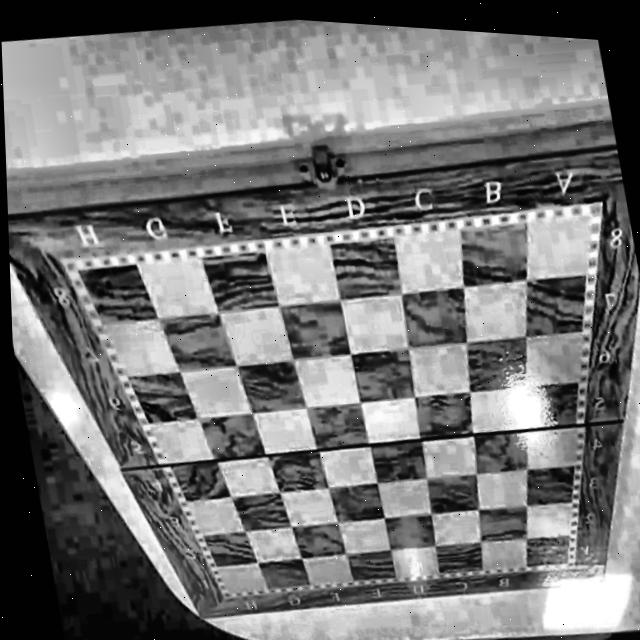chessboard: (60, 202, 602, 600)
p1: (563, 557, 572, 568)
p2: (581, 214, 595, 231)
p3: (79, 266, 89, 282)
p4: (226, 588, 233, 597)
